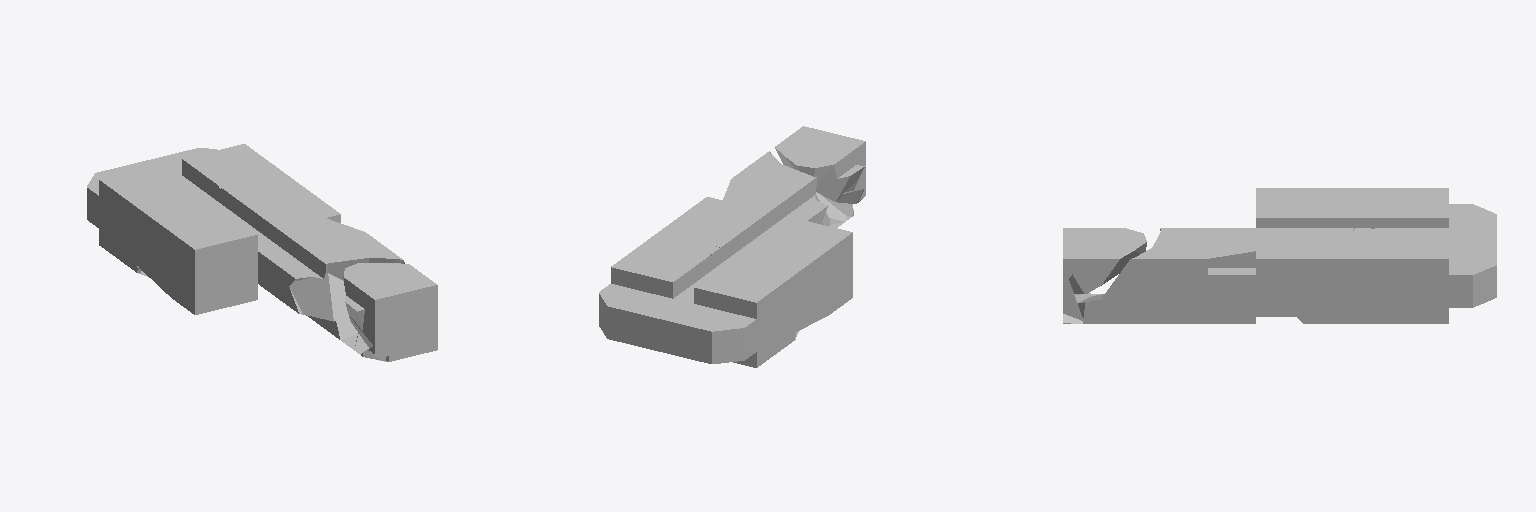
Rendered from Hard Scifi Freightor wreckpart2.obj.
The picture shows the model from 3 angles: view 1: azimuth 30°, elevation 25°; view 2: azimuth 150°, elevation 25°; view 3: azimuth 270°, elevation 25°; orthographic projection.
Visible parts, largest first — view 1: Support_Beam.001; view 2: Support_Beam.001; view 3: Support_Beam.001.
Boxes of the visible parts, x1,y1,x2,y2 form: Support_Beam.001: [87, 144, 437, 361]; Support_Beam.001: [599, 126, 865, 367]; Support_Beam.001: [1063, 188, 1496, 323].
Bounding box in the file's own units: 28 × 12 × 72.